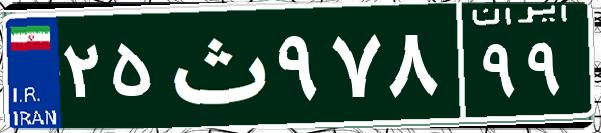2: (57, 26, 110, 107)
5: (110, 28, 158, 105)
7: (330, 28, 385, 110)
8: (385, 28, 445, 110)
9: (273, 28, 330, 110), (475, 38, 525, 113), (525, 38, 570, 115)
ث: (158, 15, 273, 115)
